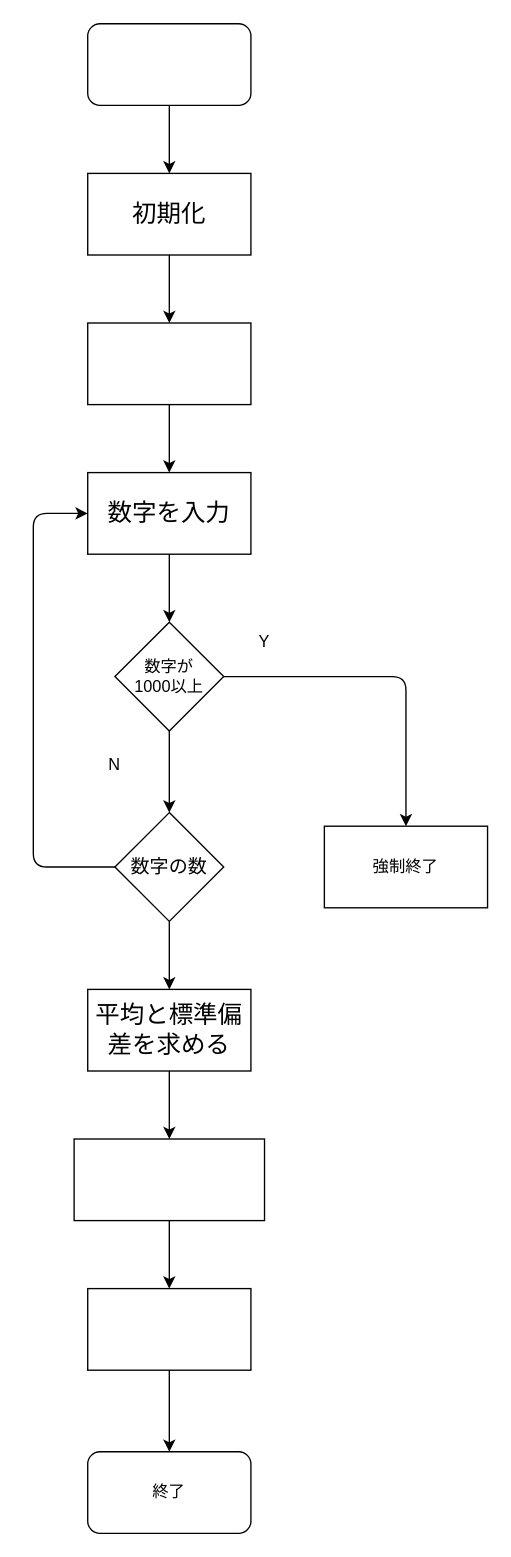
Image size: 511x1557. Some labels were removed from this diagram. Here are the shapes that lost their labels. From the top down, the centre of each, then its label:
At pixel 168 63: "開始".
At pixel 168 363: "数字の個数を 入力".
At pixel 169 1179: "数字，平均， 標準偏差を表示".
At pixel 168 1328: "free".
